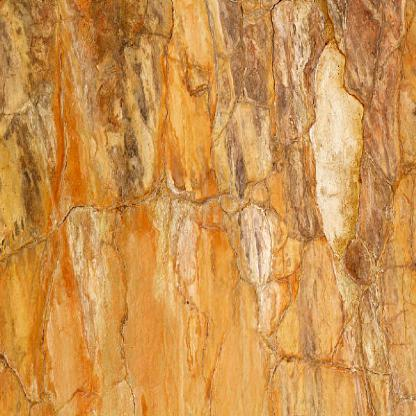Metamorphic_Marble: (1, 0, 415, 415)
